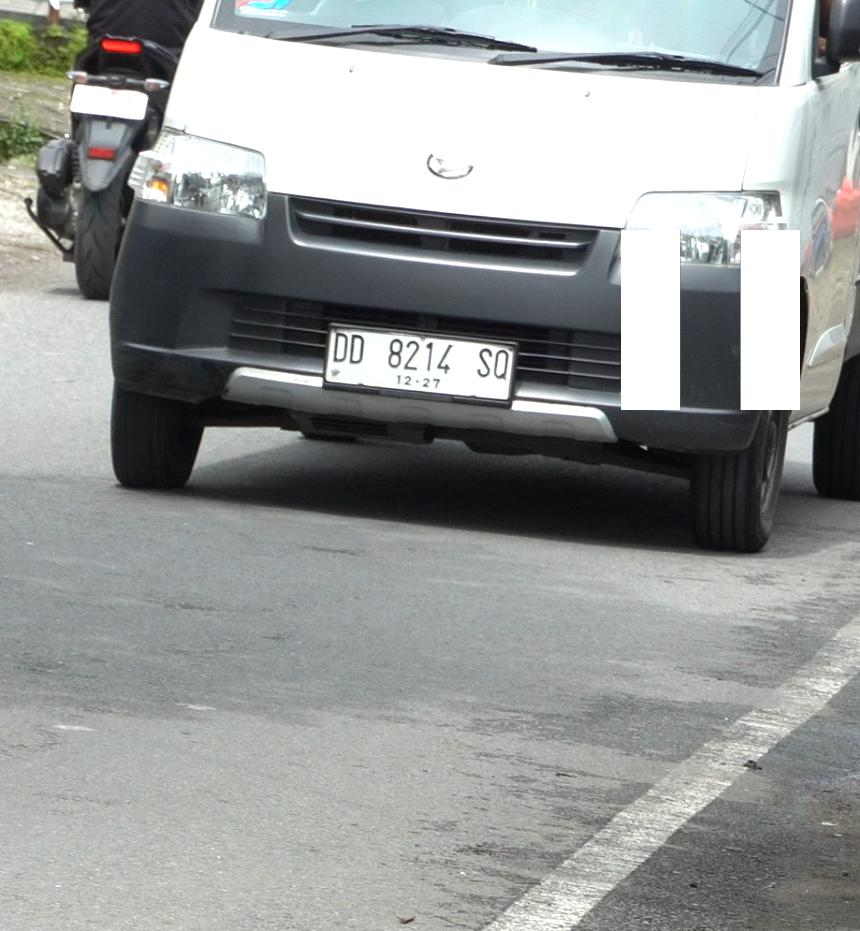number-plate: (317, 322, 526, 413)
